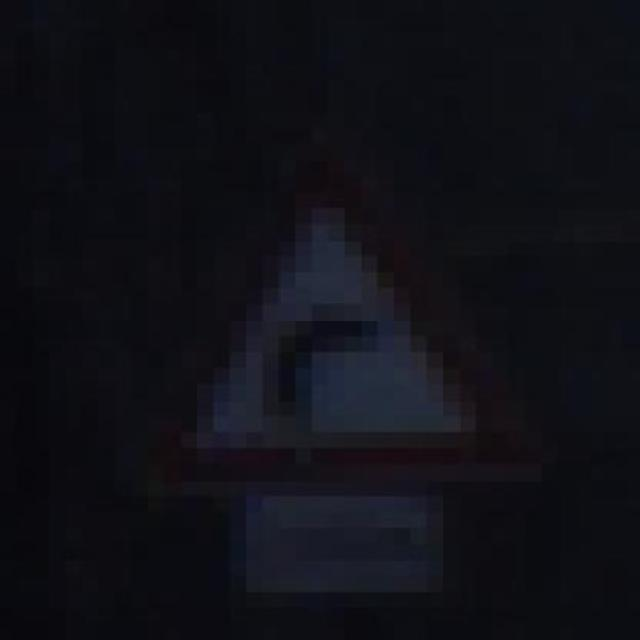Dangerous Rright Curve Ahead: (115, 129, 542, 496)
